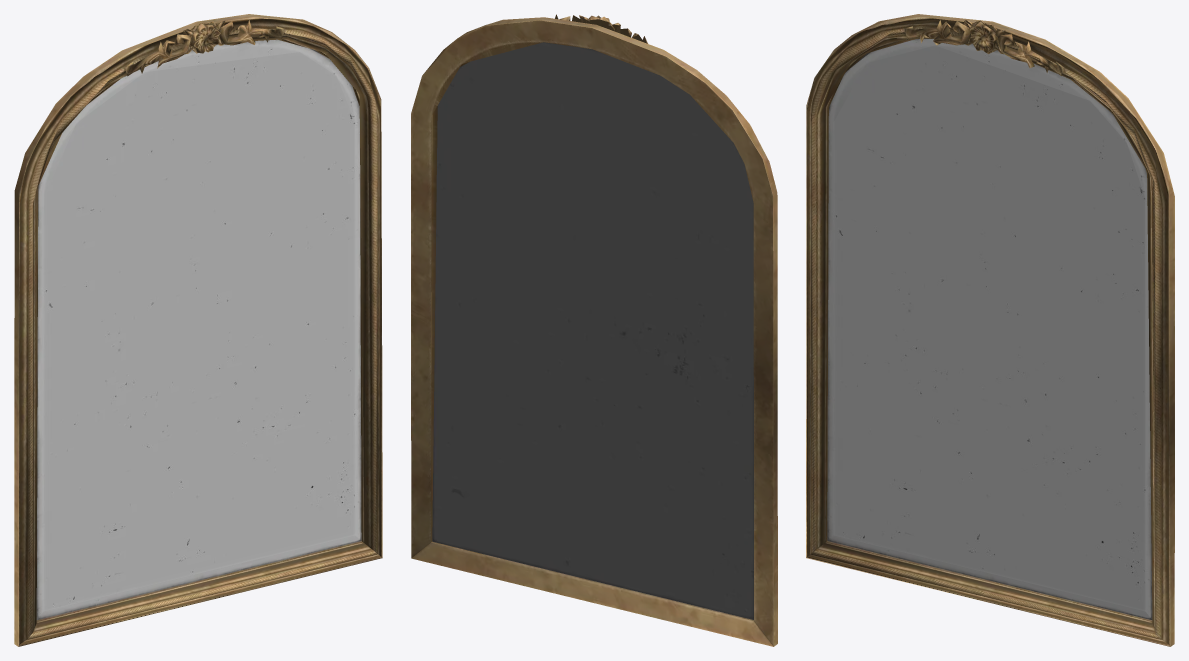
The model's file is ornate_mirror_01.glb.
3 renders of one model, left to right at view 1: azimuth 30°, elevation 25°; view 2: azimuth 150°, elevation 25°; view 3: azimuth 330°, elevation 25°, orthographic.
Parts seen in each view (by area): view 1: ornate_mirror_01; view 2: ornate_mirror_01; view 3: ornate_mirror_01.
Part boxes in pixels (left/top/right/bottom): ornate_mirror_01: left=14, top=14, right=382, bottom=646; ornate_mirror_01: left=411, top=14, right=777, bottom=646; ornate_mirror_01: left=806, top=14, right=1174, bottom=646.
Bounding box in the file's own units: 0.4856 × 0.7437 × 0.026.
1 material, 1 textured.
